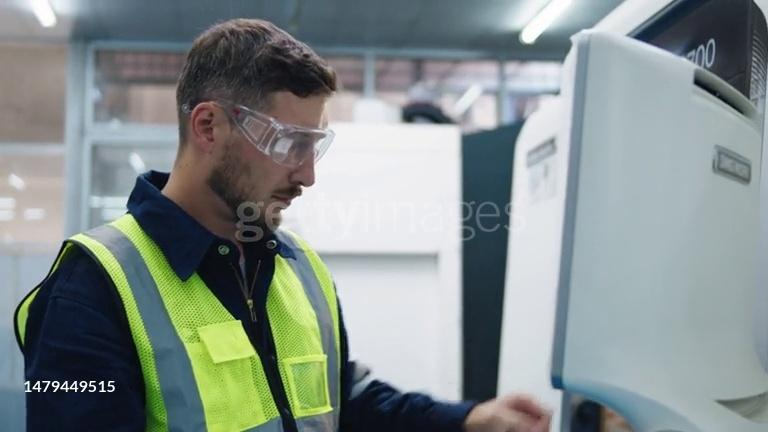person: (12, 14, 555, 432)
